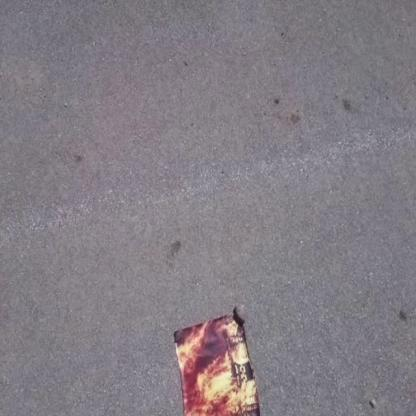fire-poster: (172, 303, 262, 415)
